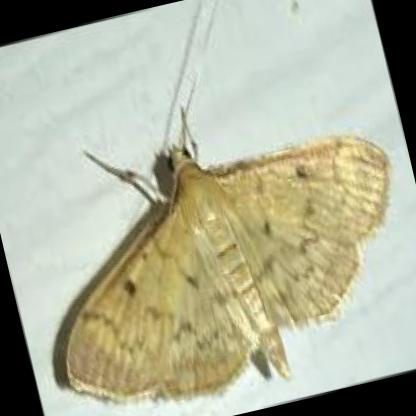Leaf Webber: (62, 133, 396, 406)
